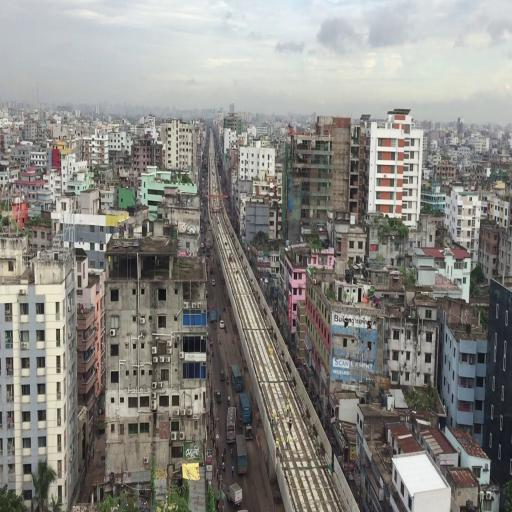bus: (236, 435, 249, 475), (227, 407, 237, 445), (240, 394, 252, 425), (232, 365, 243, 393), (210, 300, 218, 322), (208, 238, 212, 246)
car: (220, 320, 225, 329), (212, 280, 216, 287), (202, 244, 205, 249)
motorbike: (228, 395, 232, 406), (227, 375, 230, 385), (220, 337, 222, 344)
pickup: (228, 486, 245, 507), (207, 248, 211, 256)
rickshaw: (215, 321, 218, 331)
suv: (246, 425, 253, 440)
three wheelers (CNG): (217, 390, 222, 404), (221, 370, 225, 382)
